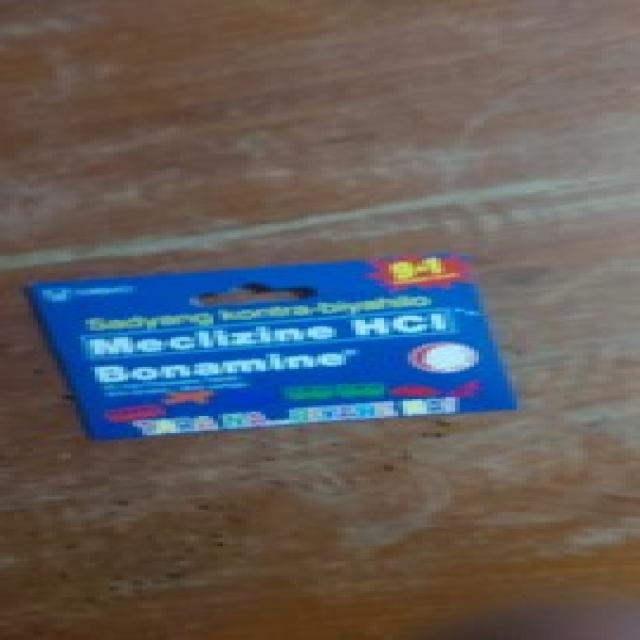Cacat: (24, 248, 528, 436)
